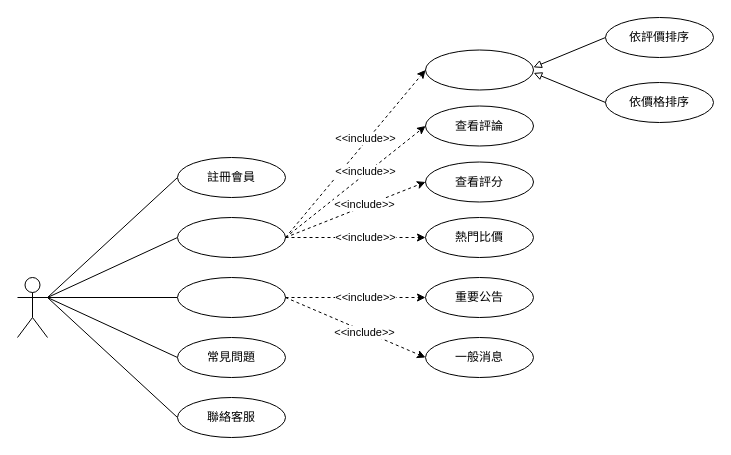
Image size: 731x455. Some labels were removed from this diagram. The centre of each missing label's shape, as x and y in pixels:
"商品比價" goes at (x=231, y=237).
"最新消息" goes at (x=231, y=297).
"比價結果排序" goes at (x=479, y=69).
"訪客" goes at (x=32, y=307).
